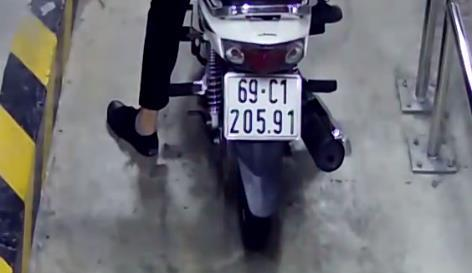lisence: (224, 73, 301, 140)
